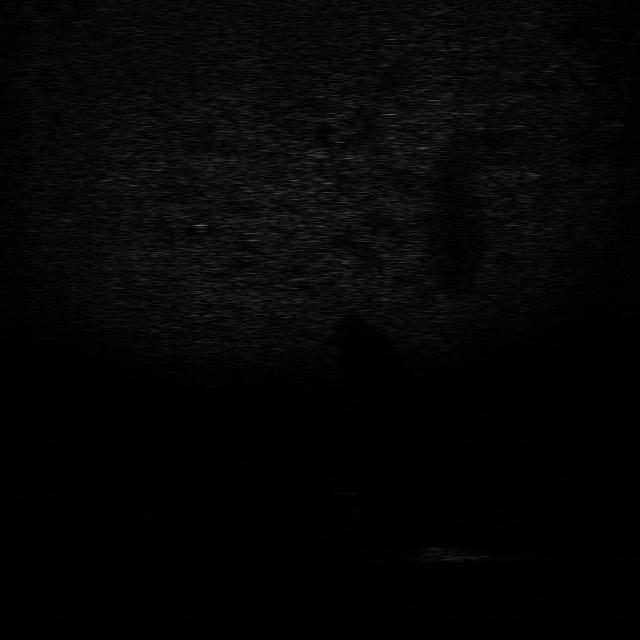ball: (326, 468, 374, 498)
metal bucket: (403, 542, 488, 565)
tyre: (360, 538, 404, 570)
